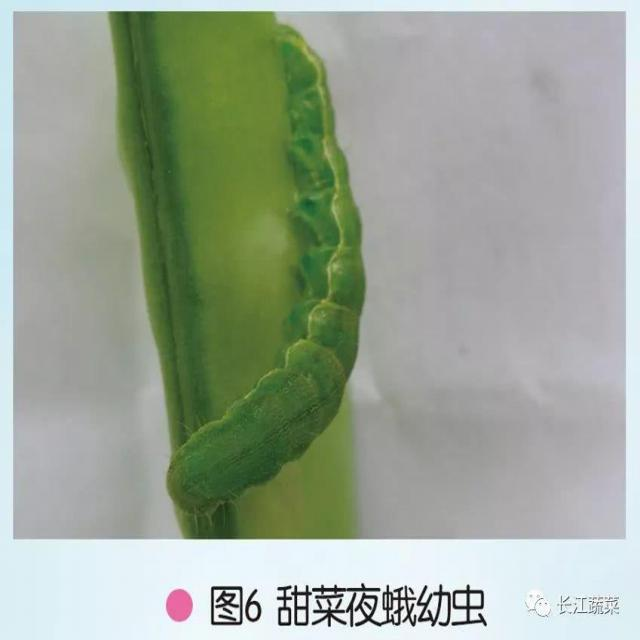BeetArmyWorm-Larva-: (162, 16, 376, 513)
